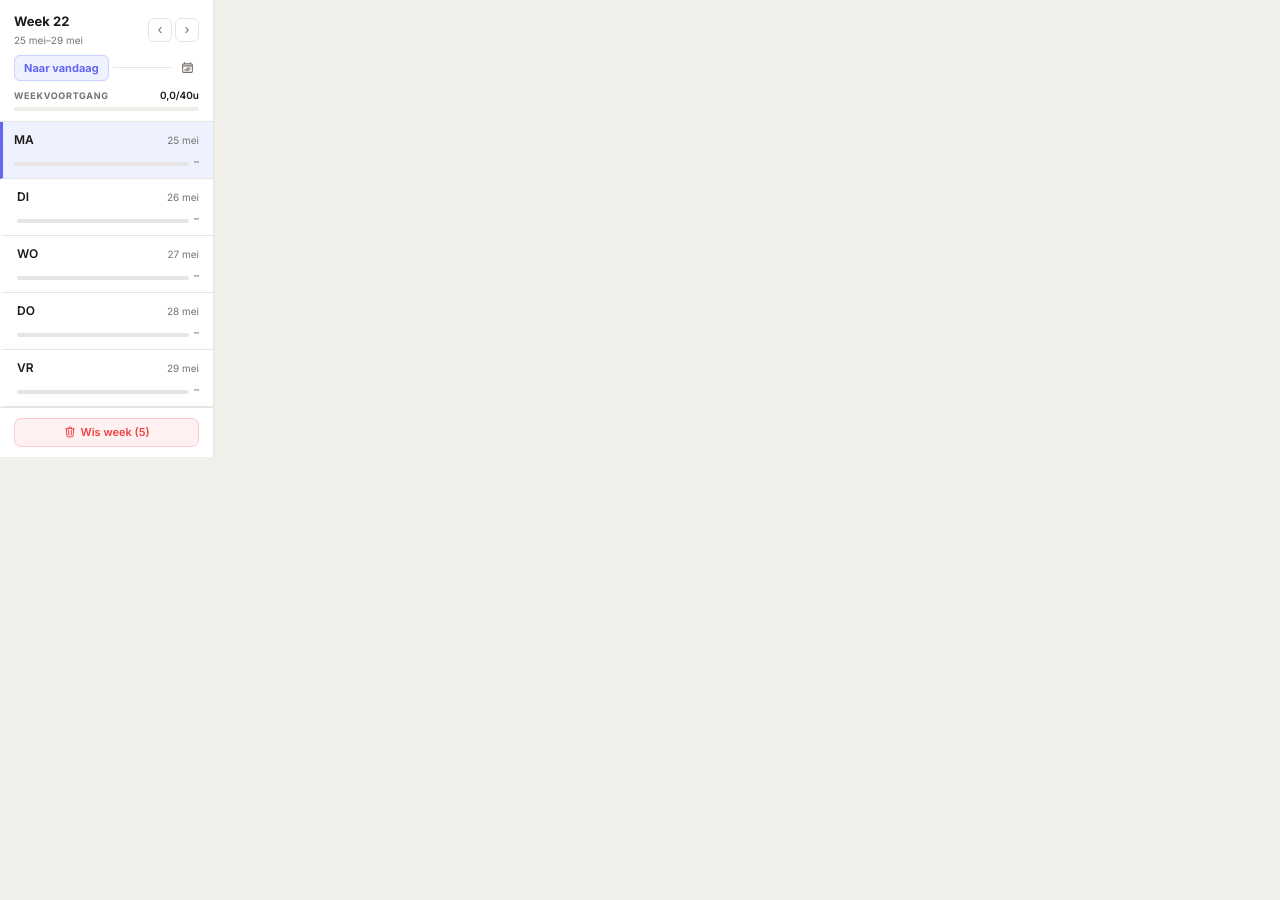
Test: WeekDayList › cancels the clear-week dialog
The width and height of the screenshot is (1280, 900).
Step 1. Click the button "Wis week (5)" → x=106, y=432, box [14,418,199,446]
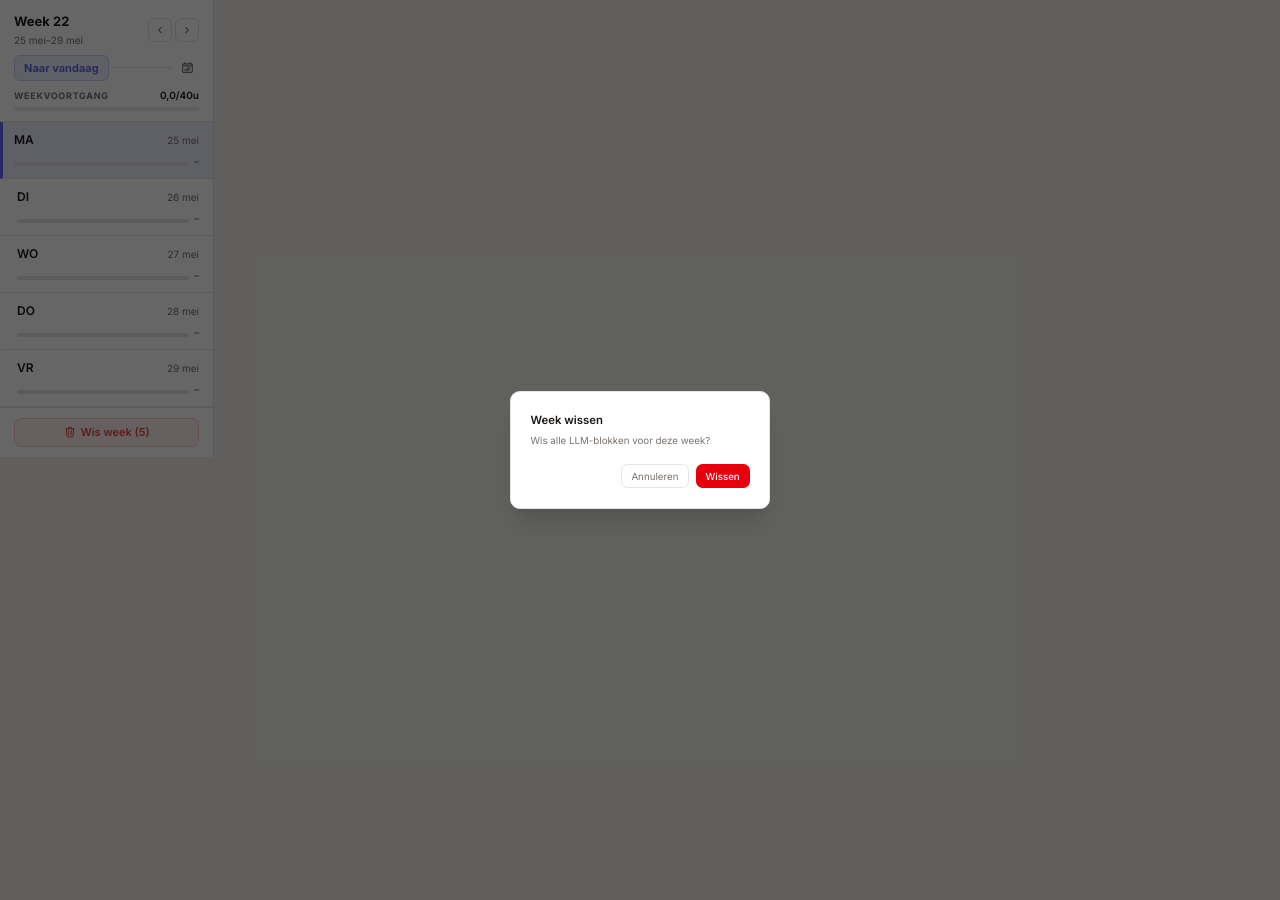
Step 2. Click the button "Annuleren" → x=655, y=476, box [621,464,689,488]
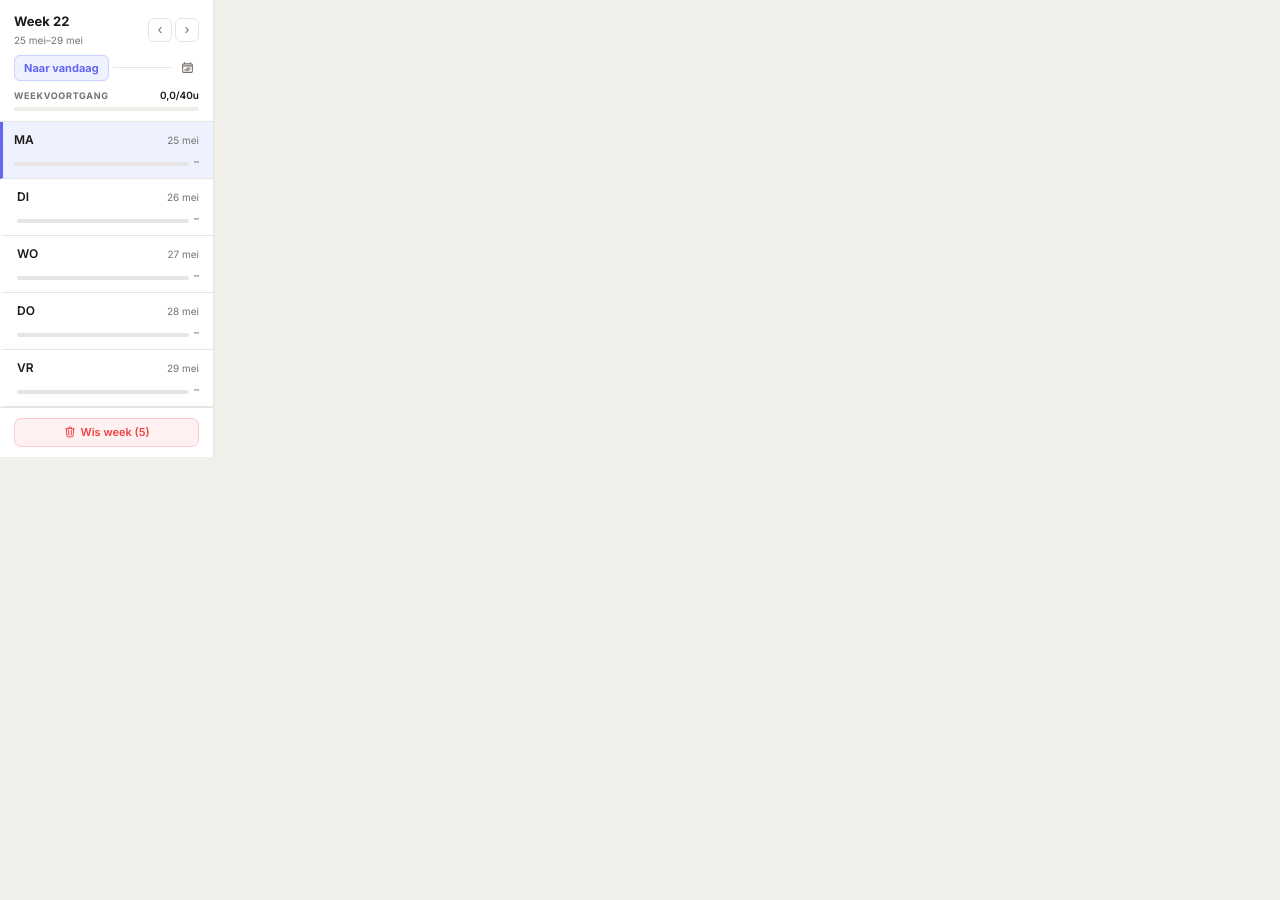
expect the heading "Week wissen" is gone: met
